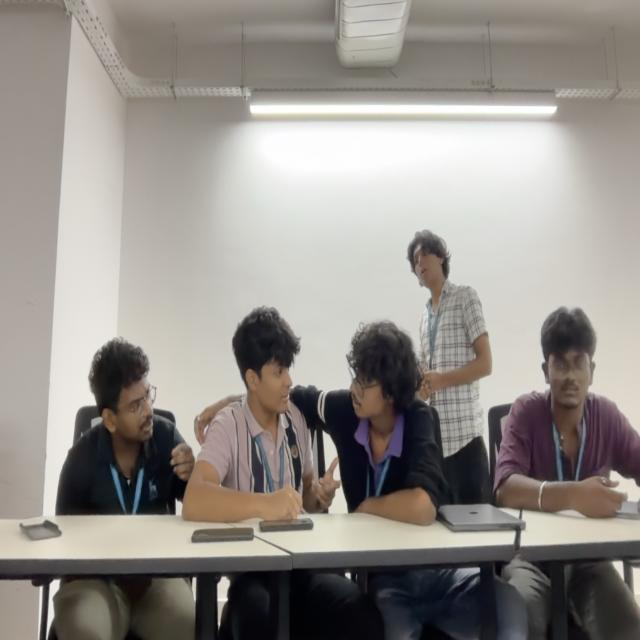Isolated: (495, 304, 640, 523)
socializing: (75, 228, 486, 537)
